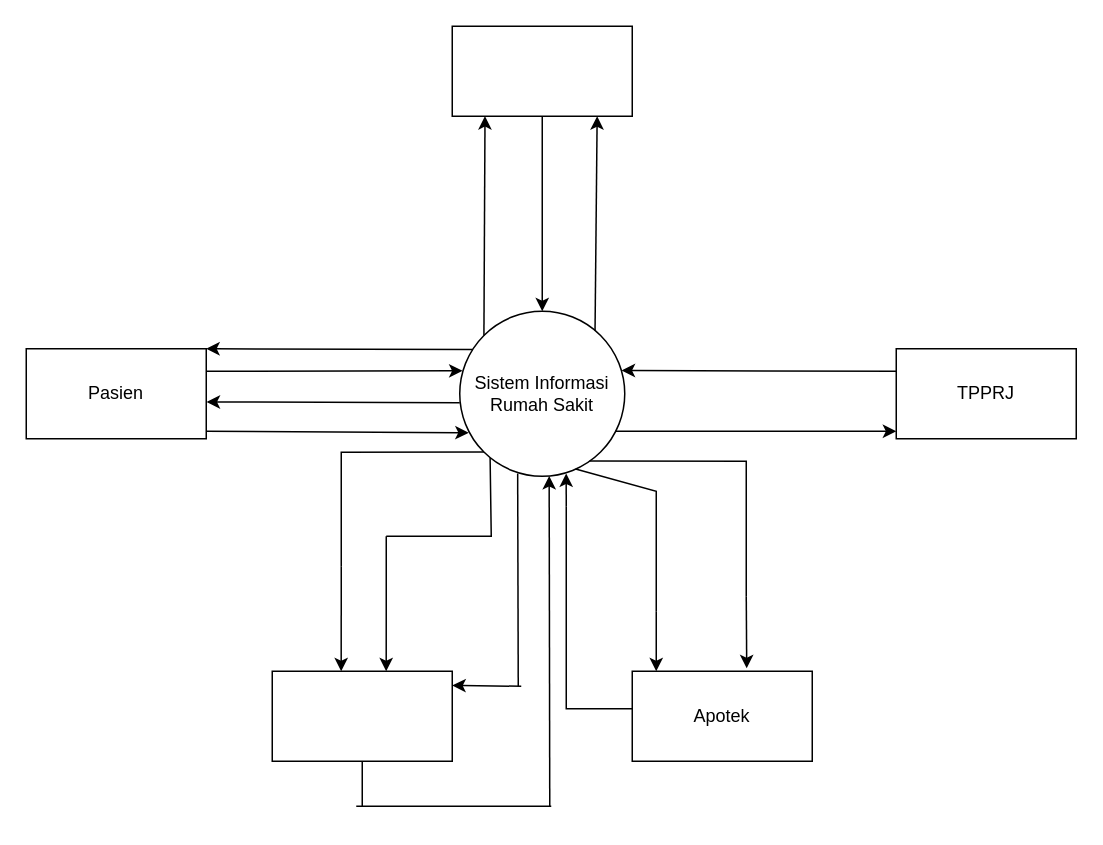
This 1103x845 diagram has some shape labels left out. Here are the shapes that lost their labels. From the top down, the box of each, then its label:
(451, 25, 632, 116): Poli
(271, 670, 452, 761): Kasir
